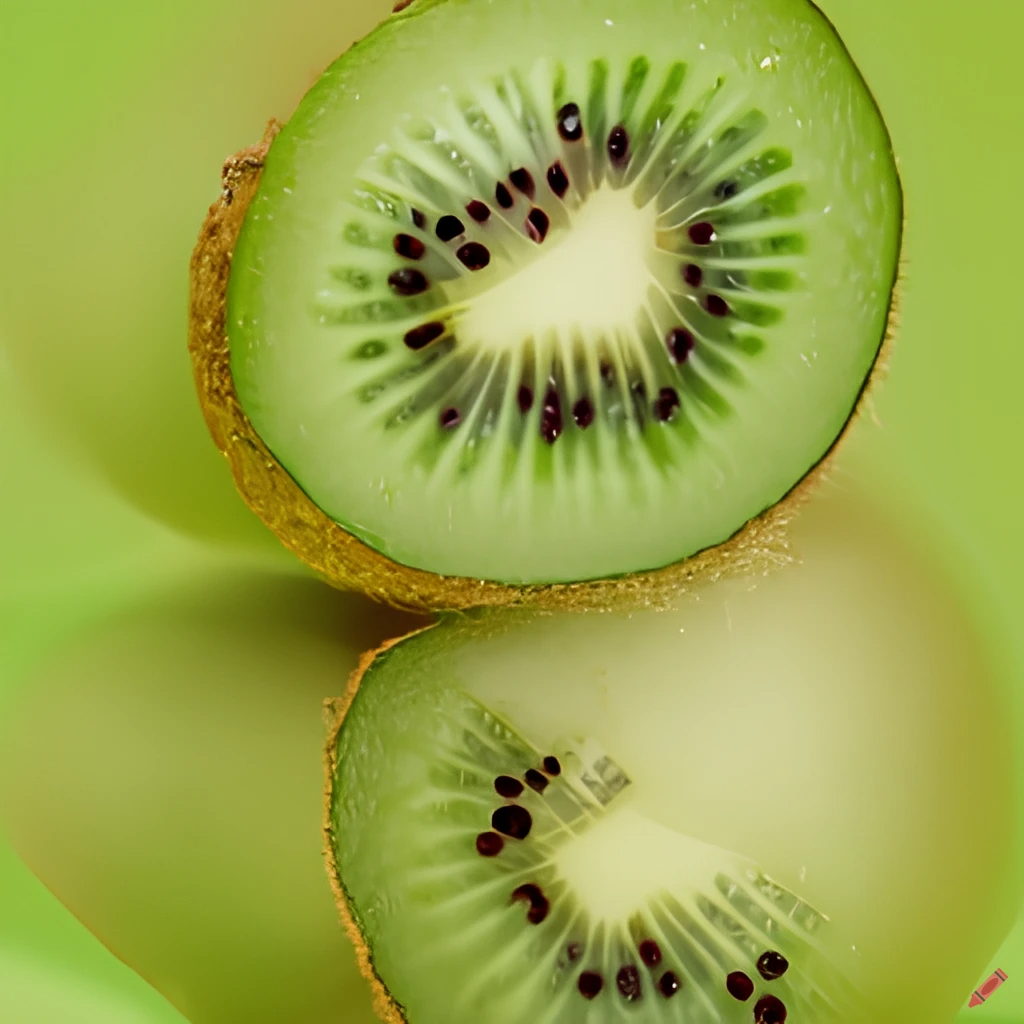Kiwi: (145, 0, 888, 582)
